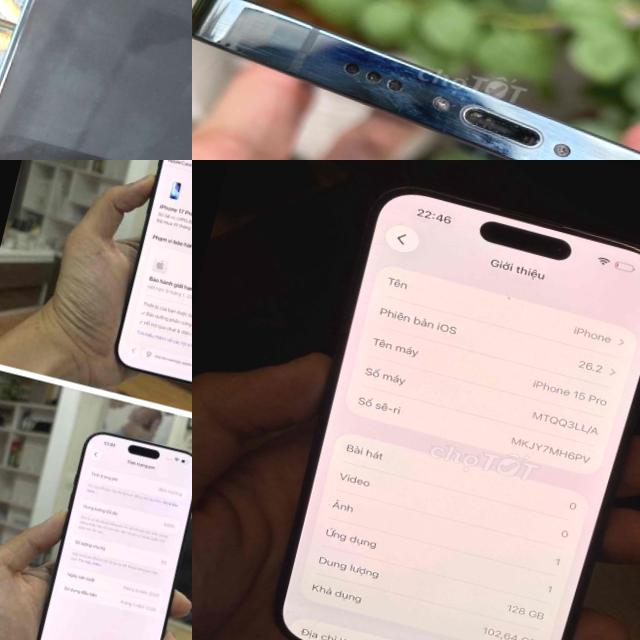gen_12_13: (192, 0, 640, 160), (0, 0, 192, 160)
gen_15: (249, 162, 640, 640)
gen_17: (22, 426, 192, 640), (102, 160, 192, 401)
